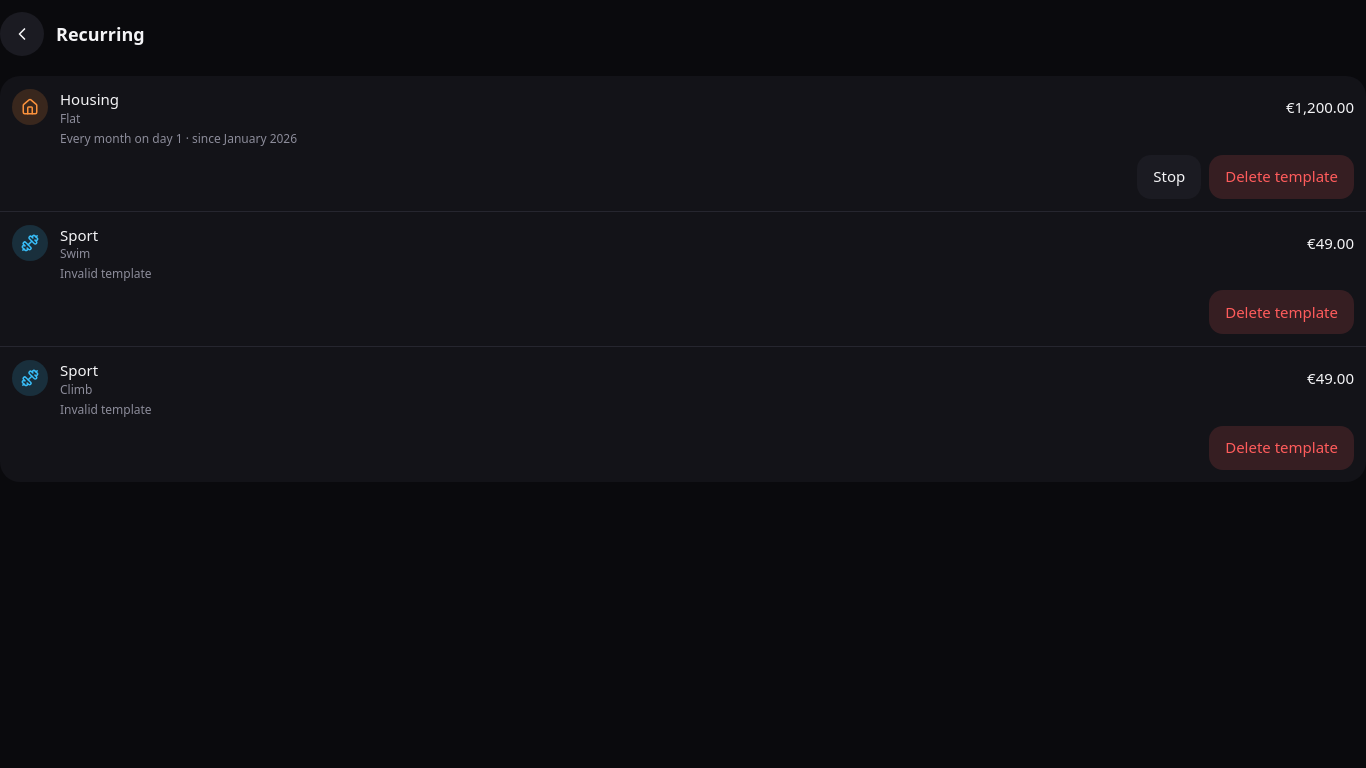
Test: RecurringPage › shows a template whose months were mistyped by hand as invalid, with Delete only, and draws the rest of the list
This screenshot has width=1366, height=768.
Expected: the number of list items is 3, [0, 76, 1365, 210]; [0, 210, 1365, 346]; [0, 346, 1365, 482]
Expected: the text "Every month on day 1 · since January 2026" is shown, [60, 130, 297, 146]
Step 1. Click the button with aria-label "Delete template Sport (Climb)" → coordinates (1282, 448), box [1209, 426, 1354, 470]
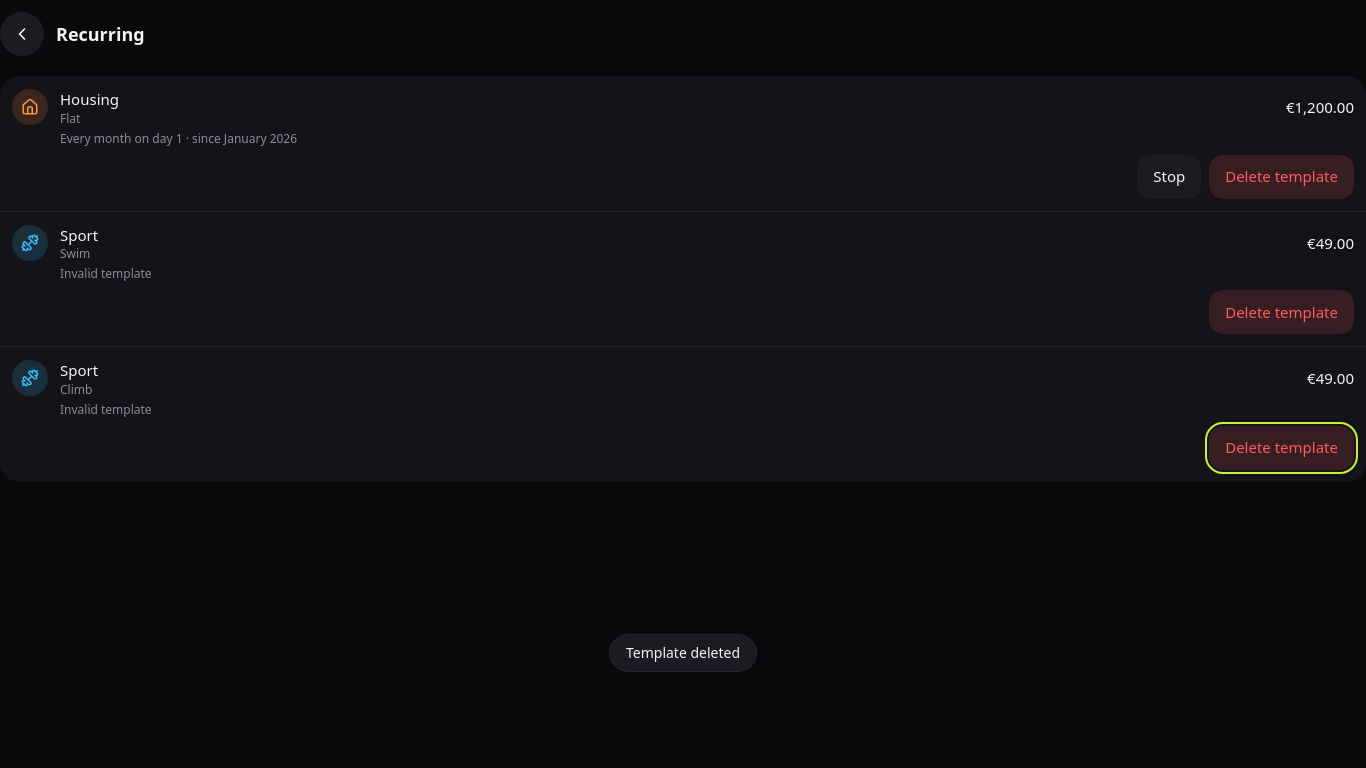
Result: the message reads "Template deleted" at [626, 643, 740, 662]
